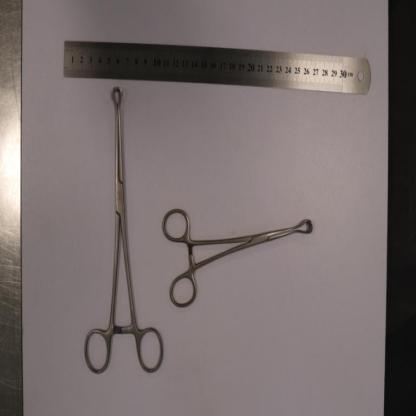8 Babcock Tissue Forceps: (84, 83, 164, 372)
Babcock Tissue Forceps: (163, 209, 313, 306)
